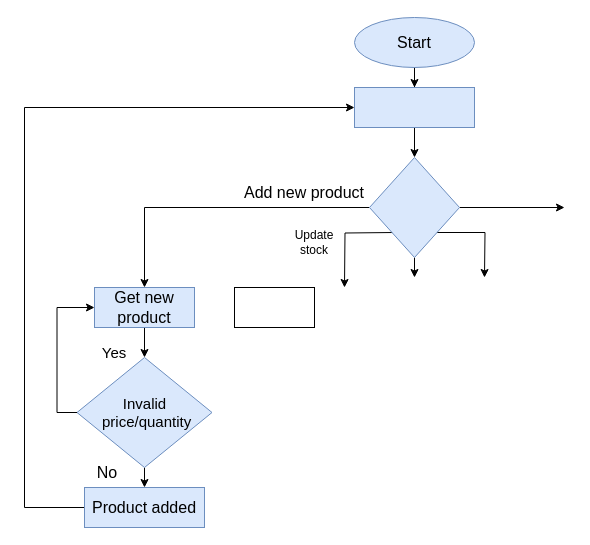
Some shapes in this 590 by 545 pixel diagram are drawn without their labels. The centre of each missing label's shape, as x and y in pixels:
Display activities: point 414,107
Select activity: point 414,207
